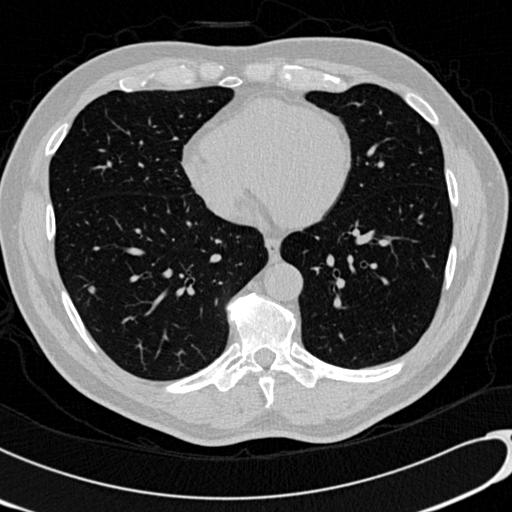nodule: (85, 284, 97, 296)
